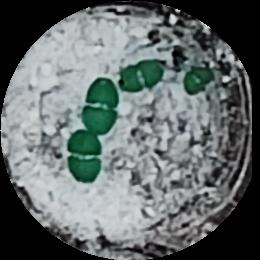Basil: (65, 127, 102, 184), (80, 77, 119, 130), (113, 61, 163, 90), (183, 68, 214, 94)
